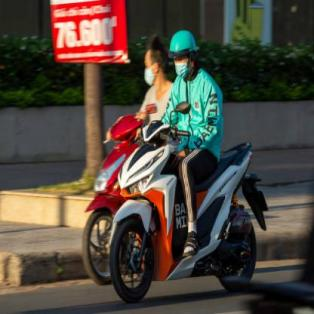Motocicleta: (108, 115, 264, 302)
